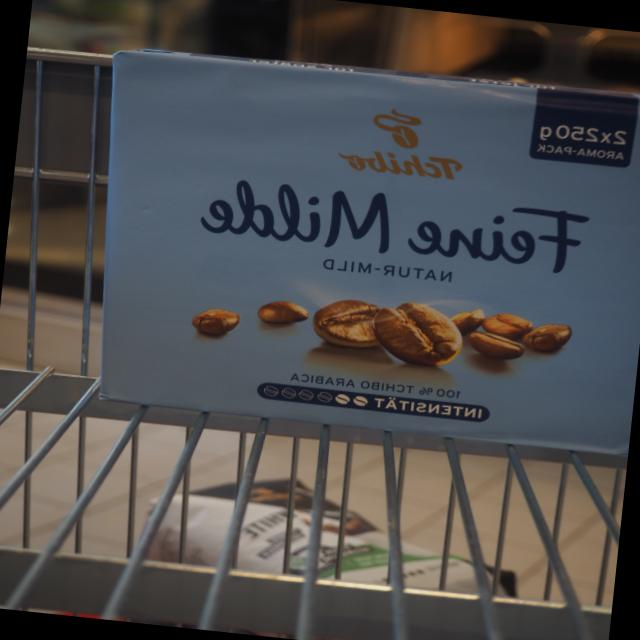FM Gemahlen: (69, 32, 640, 460)
